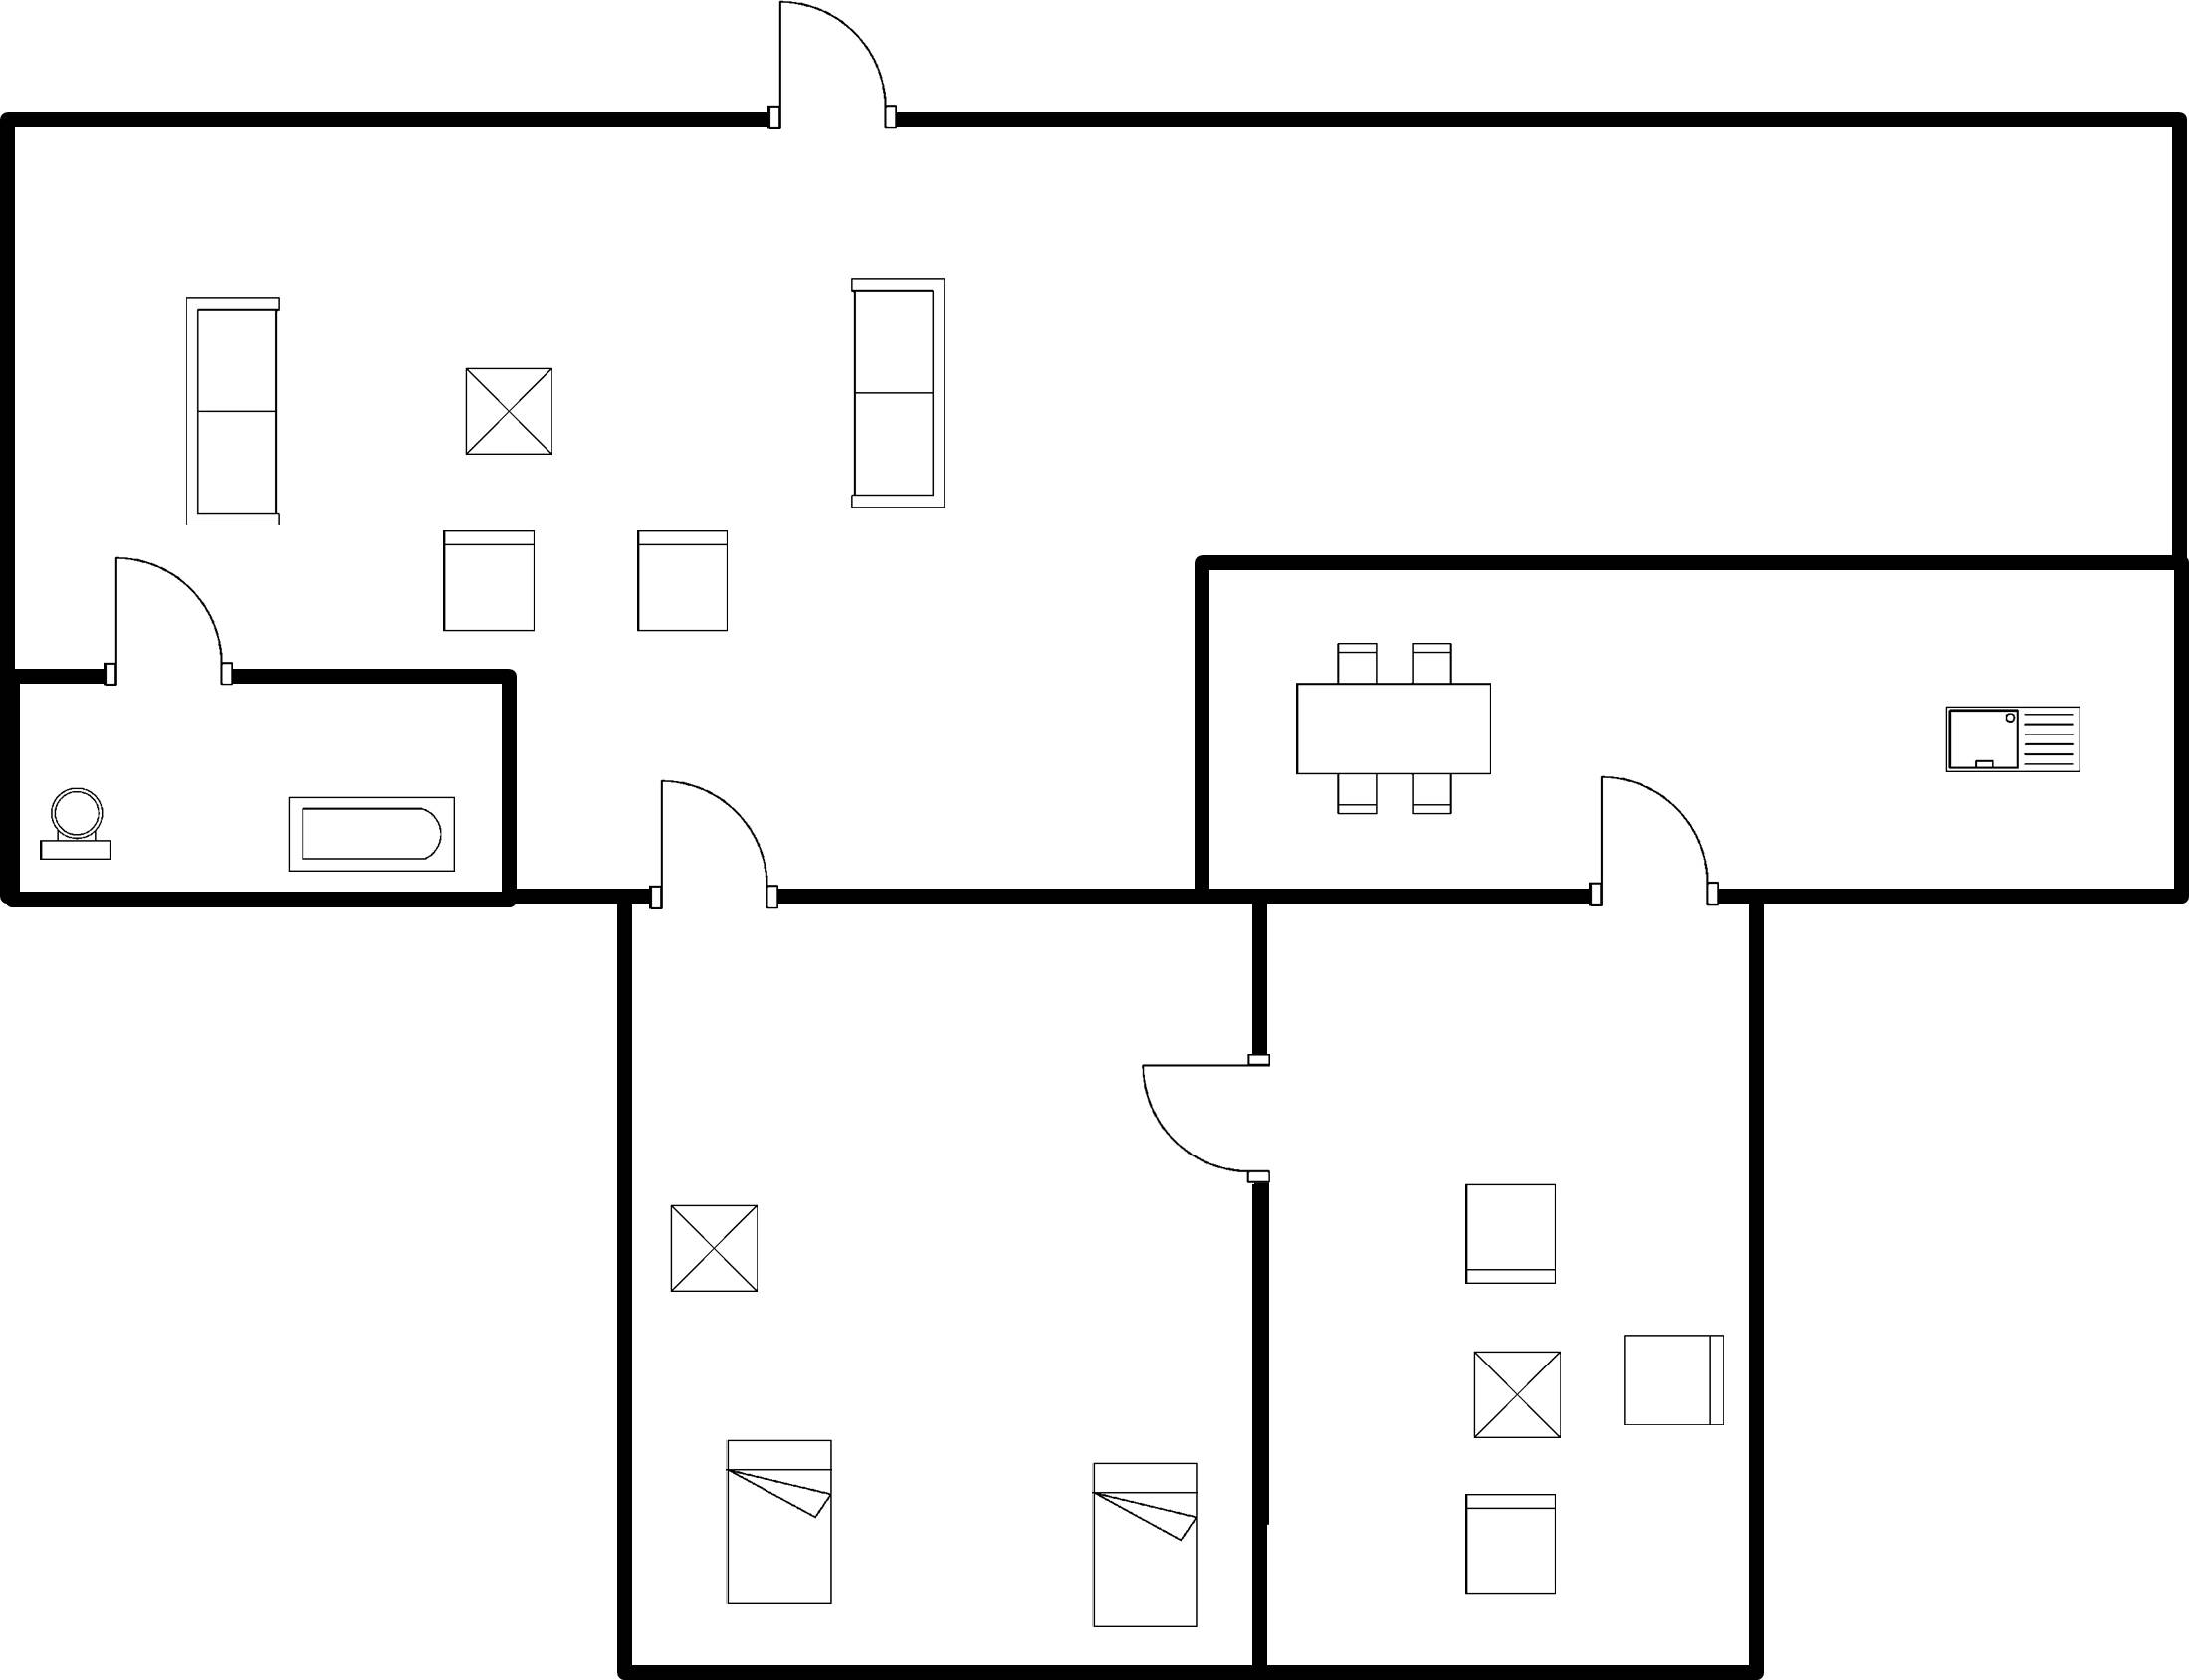bed: (1079, 1453, 1214, 1642), (713, 1430, 845, 1618)
coffee_table: (449, 353, 568, 473), (1460, 1336, 1573, 1453), (659, 1197, 770, 1312)
dining_table: (1284, 628, 1506, 827)
large_sink: (31, 778, 127, 874)
large_sofa: (166, 281, 296, 536), (839, 263, 955, 525)
sink: (1929, 695, 2087, 791)
small_sofa: (424, 512, 551, 646), (620, 521, 748, 646), (1452, 1171, 1570, 1300), (1455, 1484, 1572, 1608), (1613, 1322, 1733, 1440)
tub: (279, 784, 467, 884)
